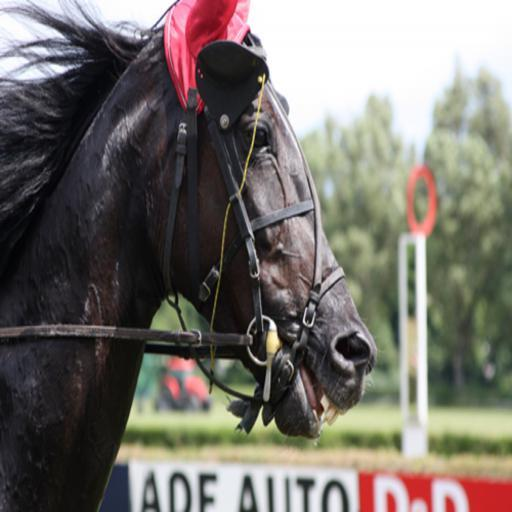Horse: (0, 0, 380, 511)
